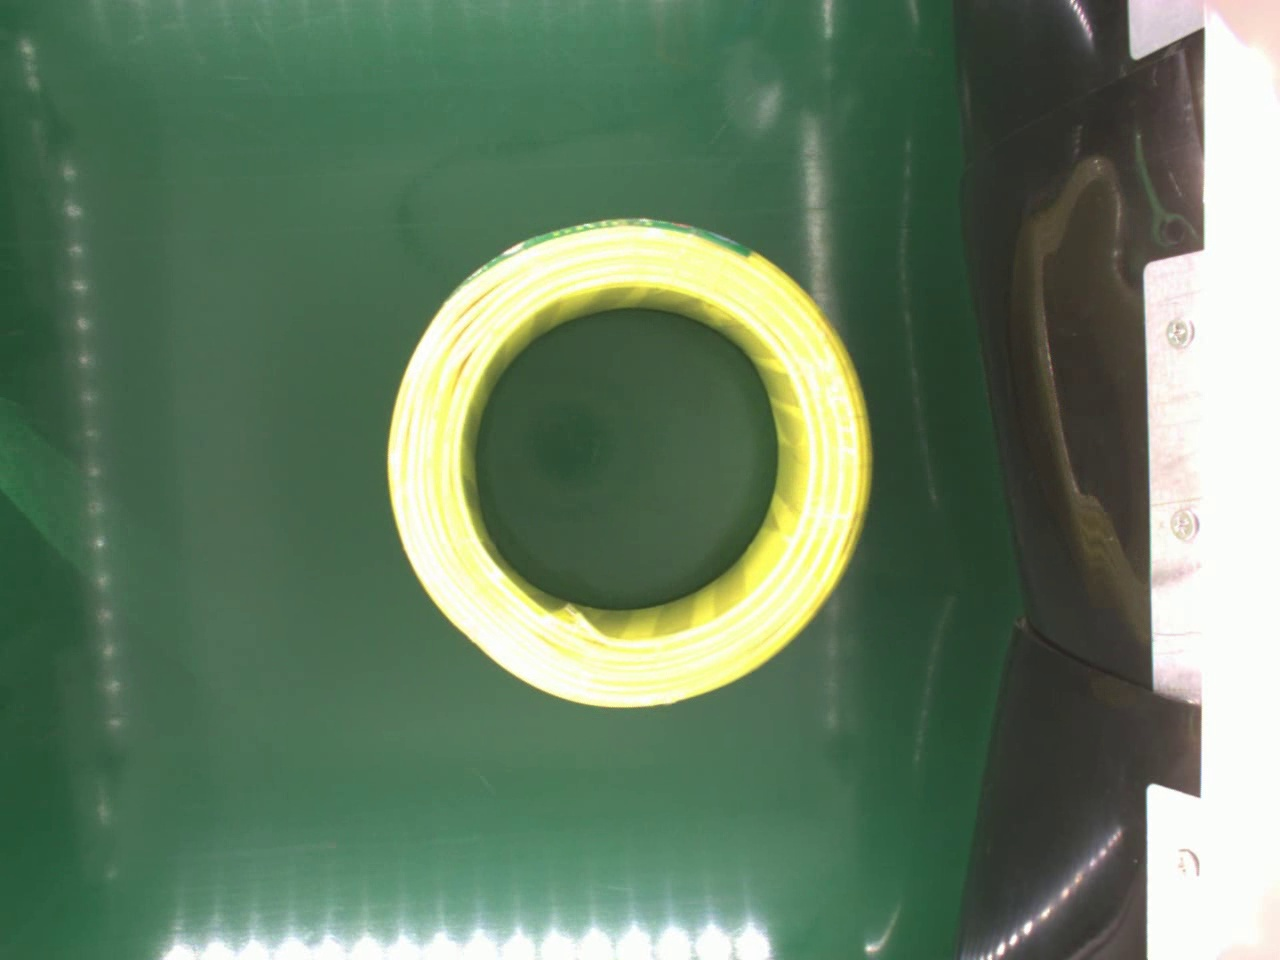yellow: (384, 210, 875, 710)
